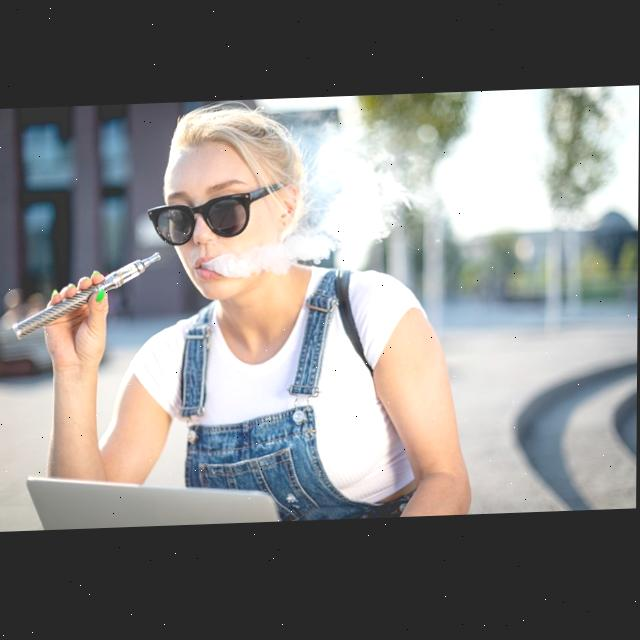vape: (13, 253, 162, 338)
